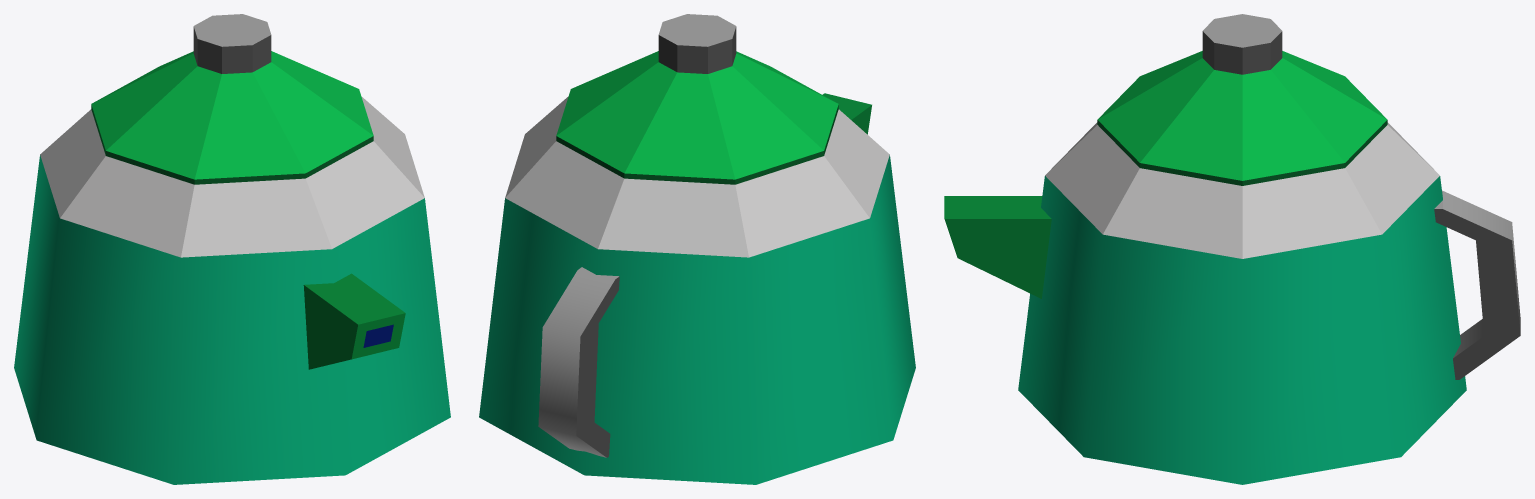
Rendered from Kettle1.fbx.
The picture shows the model from 3 angles, left to right: view 1: azimuth 30°, elevation 25°; view 2: azimuth 150°, elevation 25°; view 3: azimuth 270°, elevation 25°; orthographic projection.
Parts seen in each view (by area): view 1: Kettle1; view 2: Kettle1; view 3: Kettle1.
Boxes of the visible parts, left/top/right/bottom form: Kettle1: left=14, top=14, right=450, bottom=484; Kettle1: left=479, top=14, right=915, bottom=484; Kettle1: left=944, top=14, right=1520, bottom=484.
Bounding box in the file's own units: 25.99 × 22.96 × 33.37.
